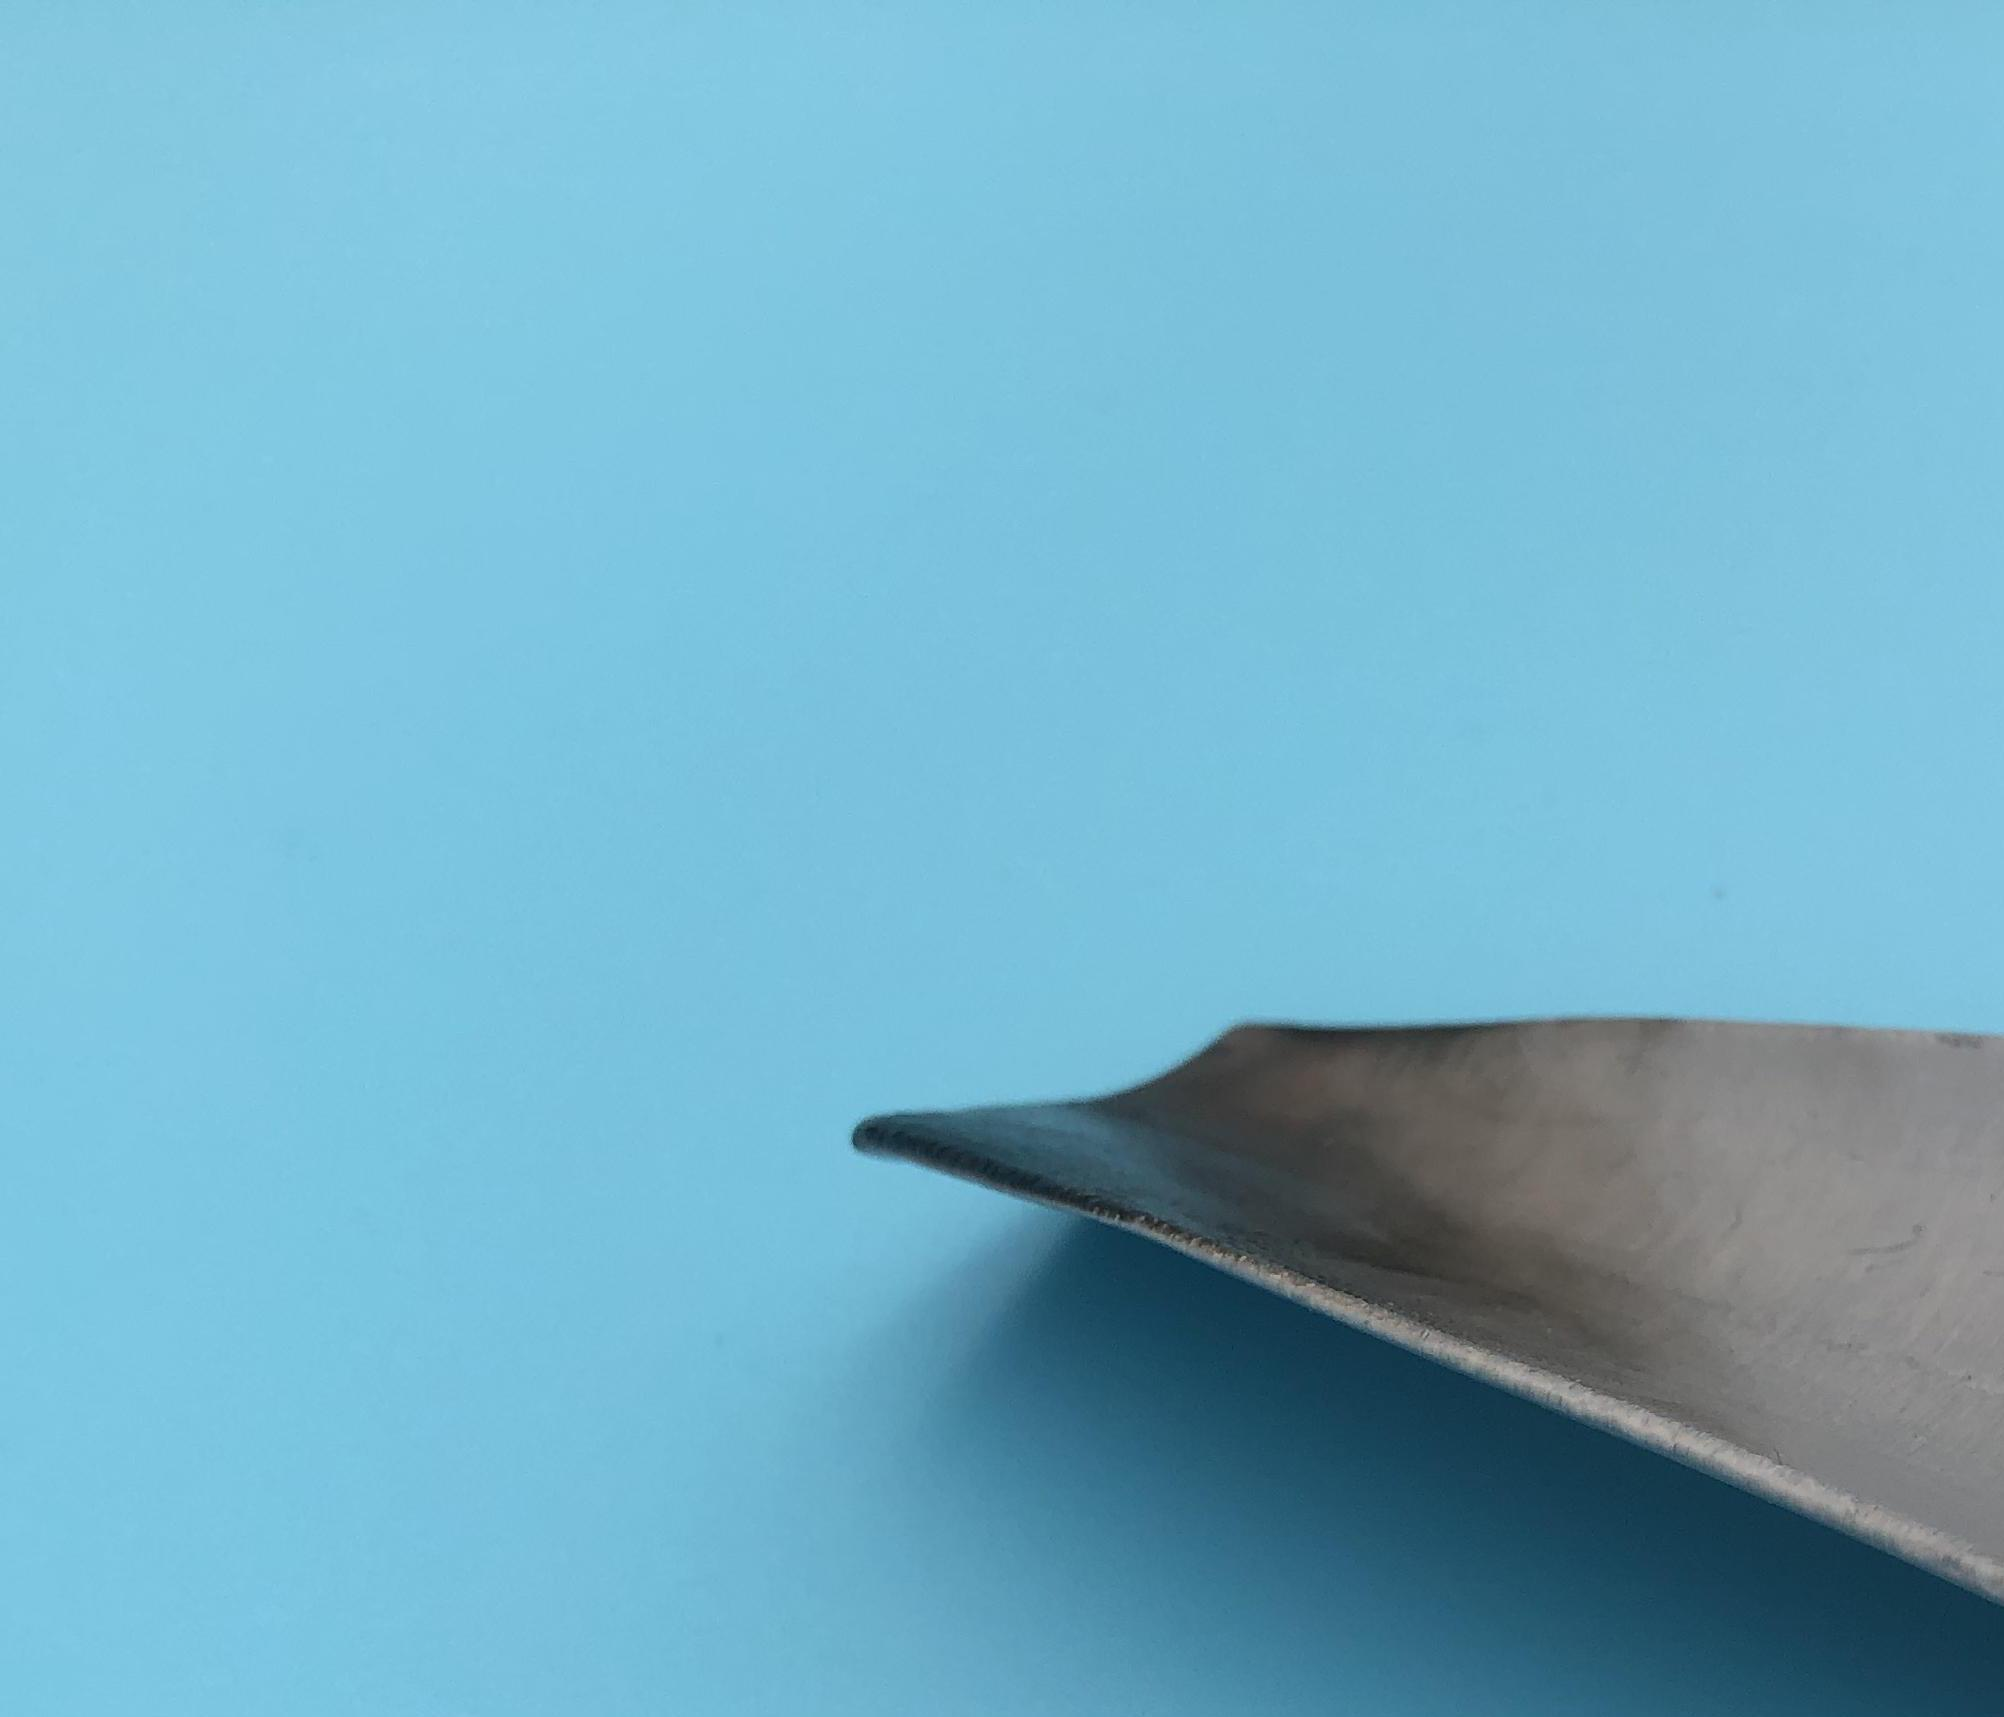ablation: (930, 1059, 1529, 1300)
